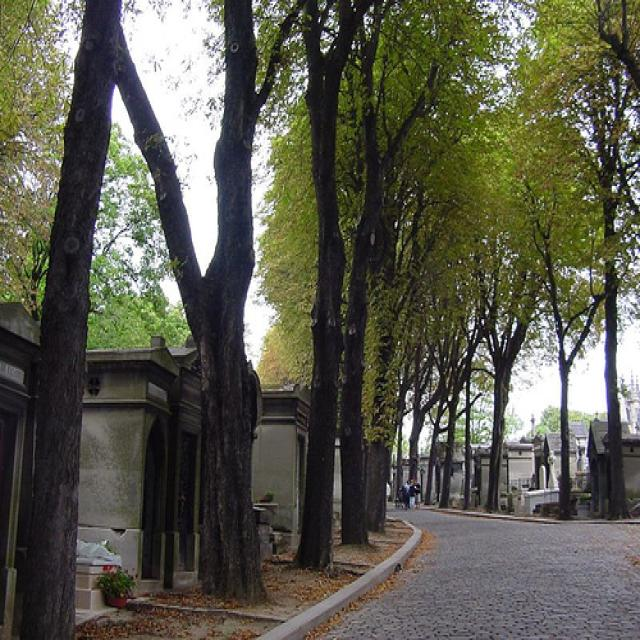pottedplant: (96, 563, 139, 614)
